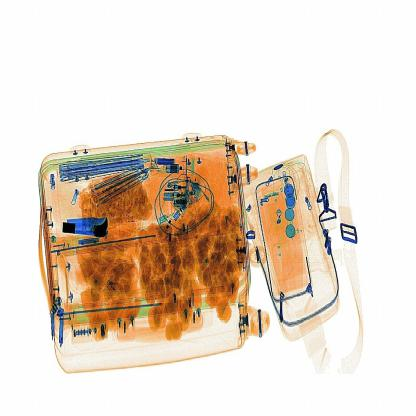knife: (59, 210, 117, 244)
